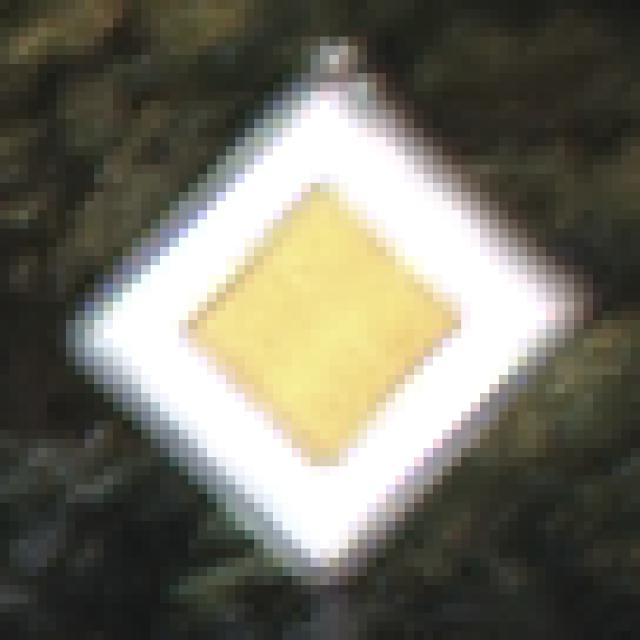Main Road: (58, 65, 585, 586)
